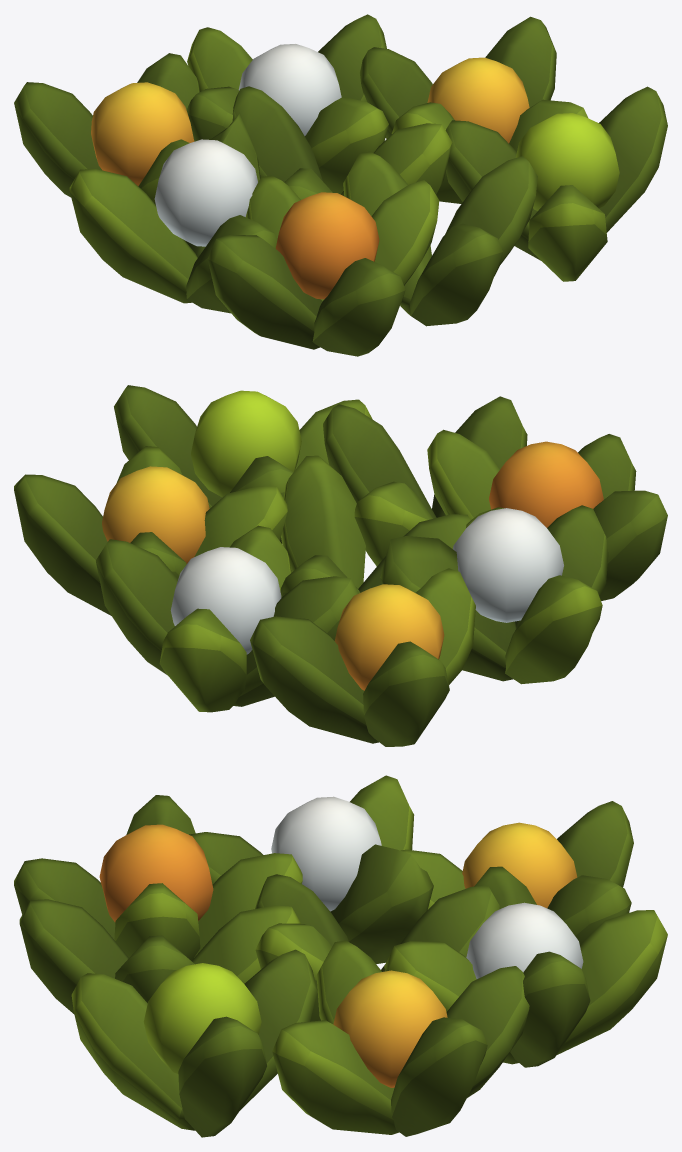
The model's file is grass_flower_balls_high_LOD_group.fbx.
The picture shows the model from 3 angles, top to bottom: view 1: azimuth 30°, elevation 25°; view 2: azimuth 150°, elevation 25°; view 3: azimuth 270°, elevation 25°; orthographic projection. The views are drawn at different scales.
Visible parts, largest first — view 1: grass_flower_balls_high_LOD0; view 2: grass_flower_balls_high_LOD0; view 3: grass_flower_balls_high_LOD0.
Boxes of the visible parts, x1,y1,x2,y2 form: grass_flower_balls_high_LOD0: [14, 14, 667, 356]; grass_flower_balls_high_LOD0: [14, 385, 667, 746]; grass_flower_balls_high_LOD0: [14, 775, 667, 1137].
Size of what is drawn, in the model's own units: 111 by 31.16 by 111.
1 material, 1 textured.
